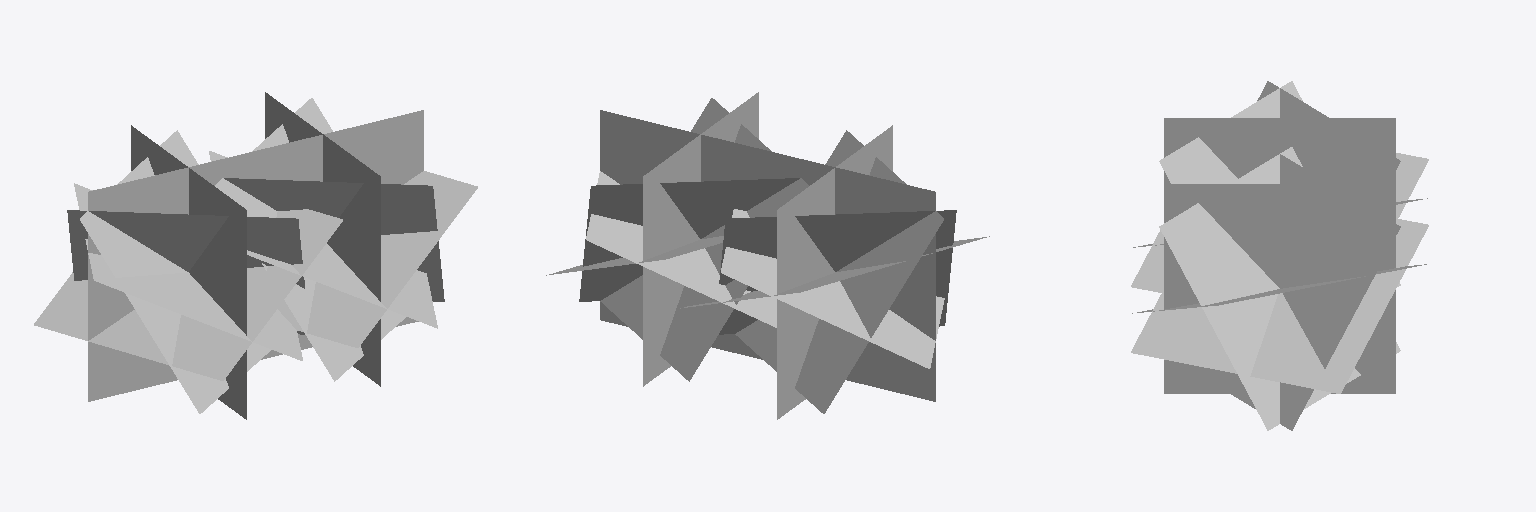
The model's file is bush.obj.
3 renders of one model, left to right at view 1: azimuth 30°, elevation 25°; view 2: azimuth 150°, elevation 25°; view 3: azimuth 270°, elevation 25°, orthographic.
Visible parts, largest first — view 1: Polygon_1_2, Polygon_1, Polygon_1_1, Polygon_1_9, Polygon_1_10, Polygon_1_5, Polygon_1_4, Polygon_1_6, Polygon_1_11, Polygon_1_3, Polygon_1_7, Polygon_1_8; view 2: Polygon_1_5, Polygon_1, Polygon_1_1, Polygon_1_10, Polygon_1_4, Polygon_1_7, Polygon_1_6, Polygon_1_11, Polygon_1_2, Polygon_1_9, Polygon_1_3, Polygon_1_8; view 3: Polygon_1_10, Polygon_1_8, Polygon_1_6, Polygon_1_7, Polygon_1_1, Polygon_1_5, Polygon_1_4, Polygon_1_3, Polygon_1_9.
Part boxes in pixels (x1,y1,x2,y2): Polygon_1_2: (34, 209, 342, 380); Polygon_1: (88, 143, 288, 401); Polygon_1_1: (131, 125, 246, 419); Polygon_1_9: (278, 171, 477, 347); Polygon_1_10: (265, 92, 380, 386); Polygon_1_5: (67, 210, 304, 334); Polygon_1_4: (80, 130, 271, 413); Polygon_1_6: (224, 178, 444, 301); Polygon_1_11: (224, 110, 423, 358); Polygon_1_3: (74, 183, 302, 360); Polygon_1_7: (215, 98, 405, 381); Polygon_1_8: (209, 151, 437, 328); Polygon_1_5: (735, 130, 943, 413); Polygon_1: (735, 143, 935, 401); Polygon_1_1: (777, 125, 892, 419); Polygon_1_10: (643, 92, 758, 386); Polygon_1_4: (719, 210, 956, 334); Polygon_1_7: (579, 178, 799, 301); Polygon_1_6: (600, 98, 808, 381); Polygon_1_11: (600, 110, 800, 359); Polygon_1_2: (721, 209, 944, 368); Polygon_1_9: (586, 171, 776, 327); Polygon_1_3: (680, 236, 989, 308); Polygon_1_8: (546, 236, 723, 275); Polygon_1_10: (1164, 184, 1395, 393); Polygon_1_8: (1131, 218, 1428, 393); Polygon_1_6: (1159, 147, 1400, 430); Polygon_1_7: (1199, 147, 1400, 430); Polygon_1_1: (1164, 118, 1395, 183); Polygon_1_5: (1159, 81, 1400, 286); Polygon_1_4: (1257, 81, 1400, 183); Polygon_1_3: (1131, 153, 1428, 292); Polygon_1_9: (1132, 264, 1426, 313).
Size of the model in its own units: 4.79 by 2.5 by 3.22.